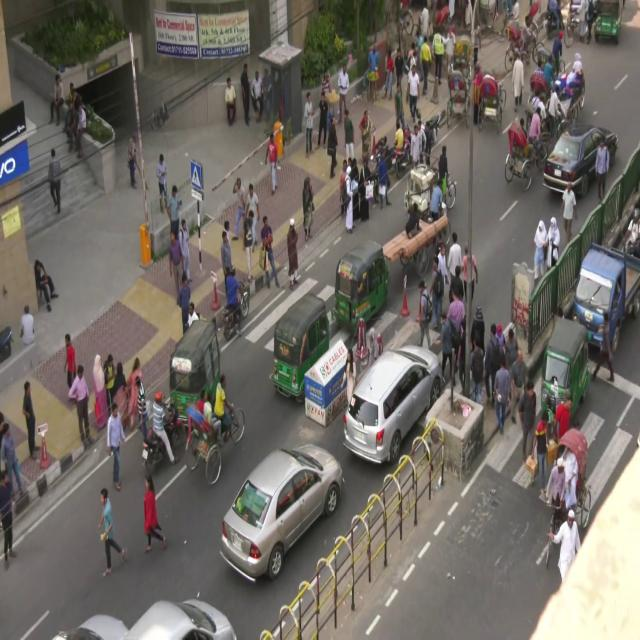black: (539, 125, 618, 192)
silver: (218, 444, 345, 576), (341, 346, 446, 472)
